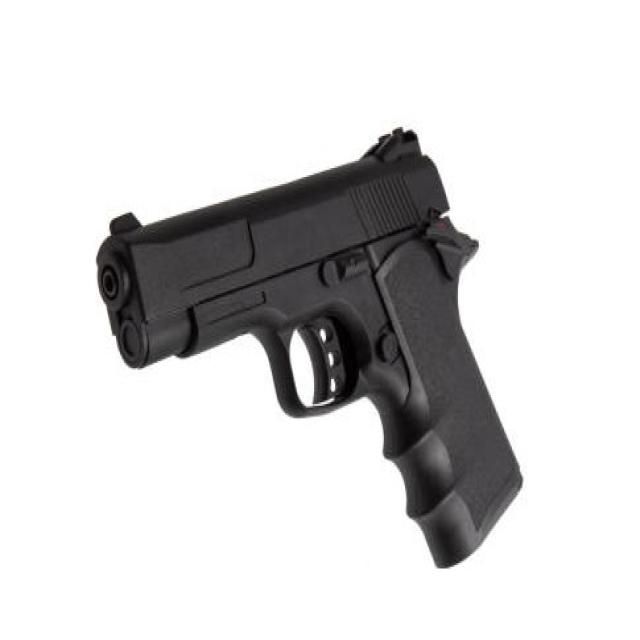pistol: (87, 122, 533, 586)
